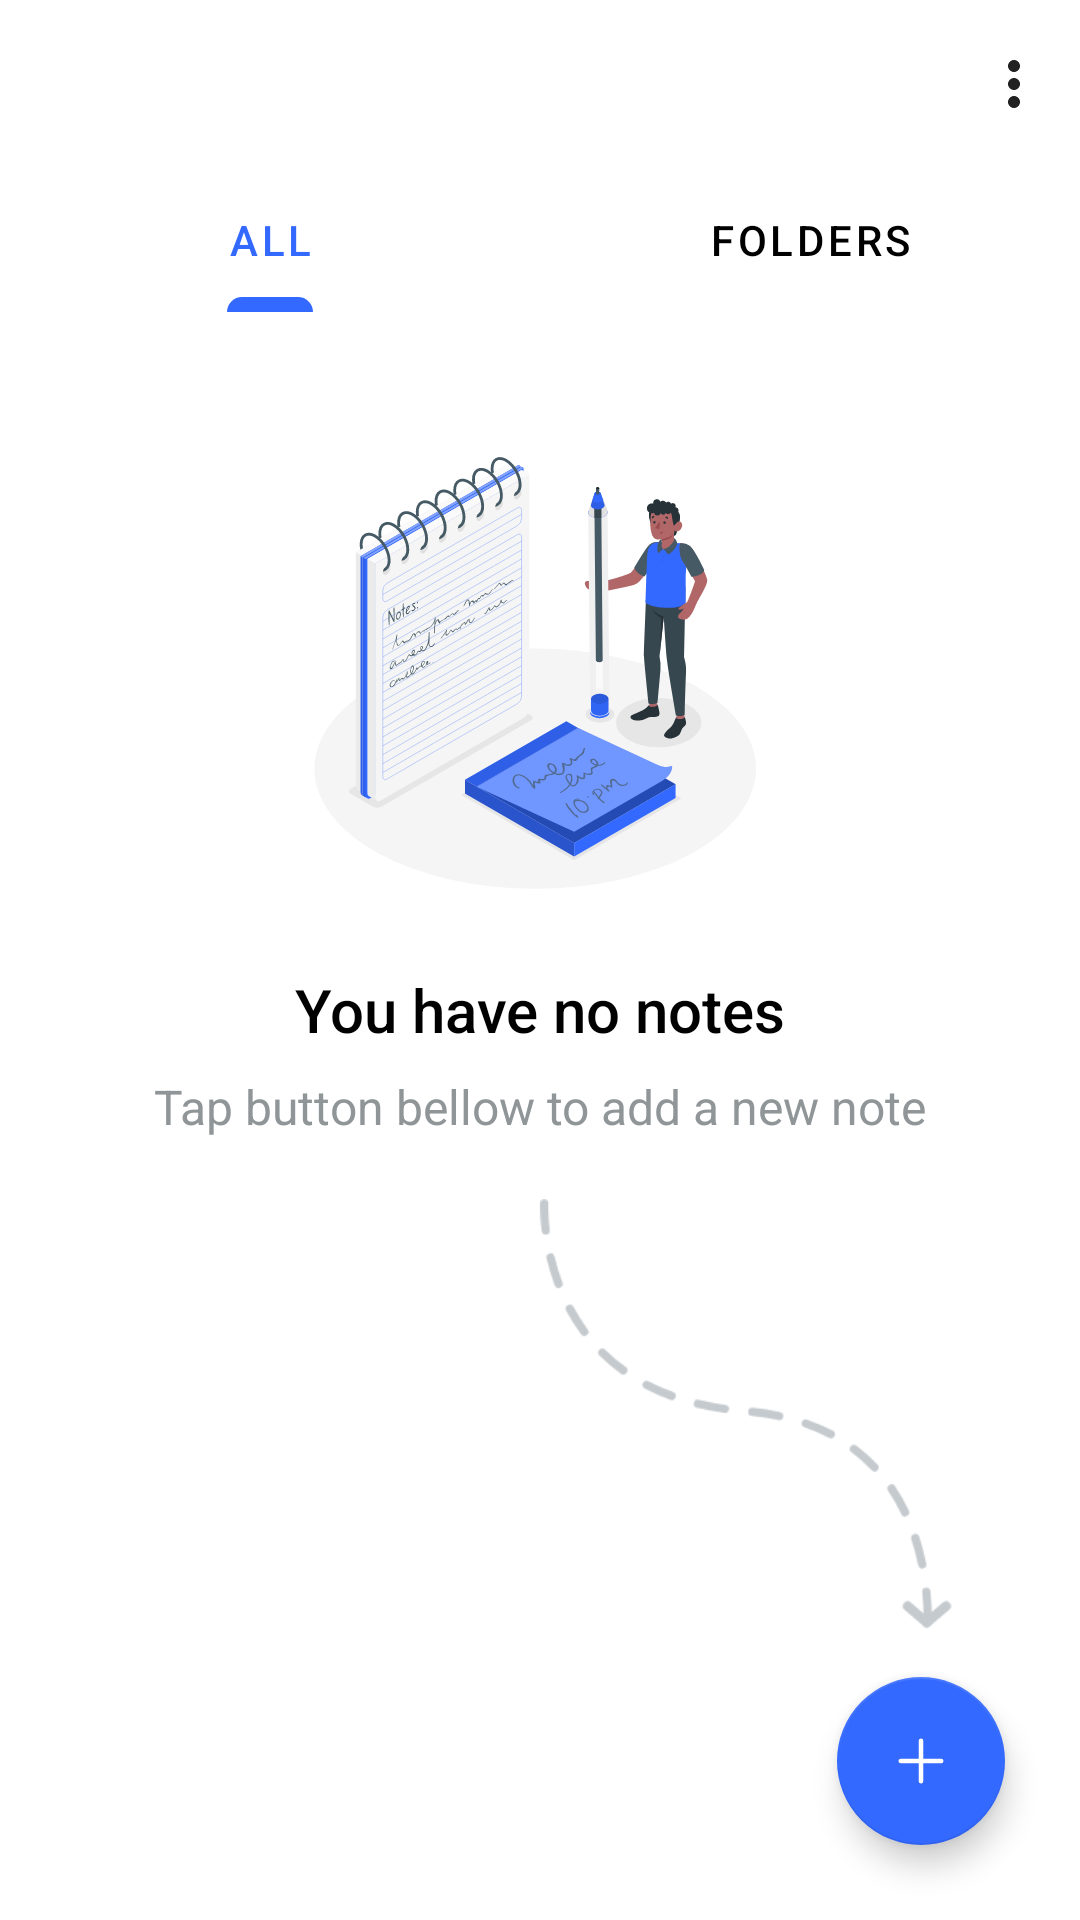

Named icons in this screenshot (1080px x 1920px) and their bounding boxes, (x1, y1, x2, y2):
add: (837, 1677, 1005, 1845)
